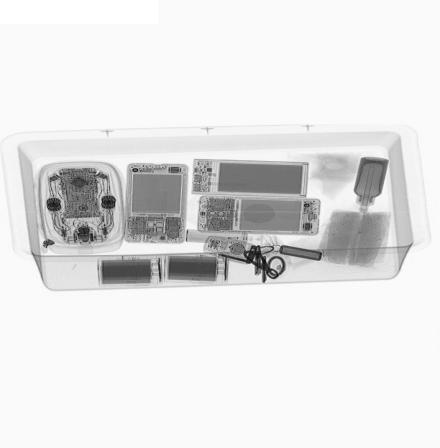Powerbank: (190, 160, 312, 198), (95, 257, 164, 285), (163, 256, 231, 282)
